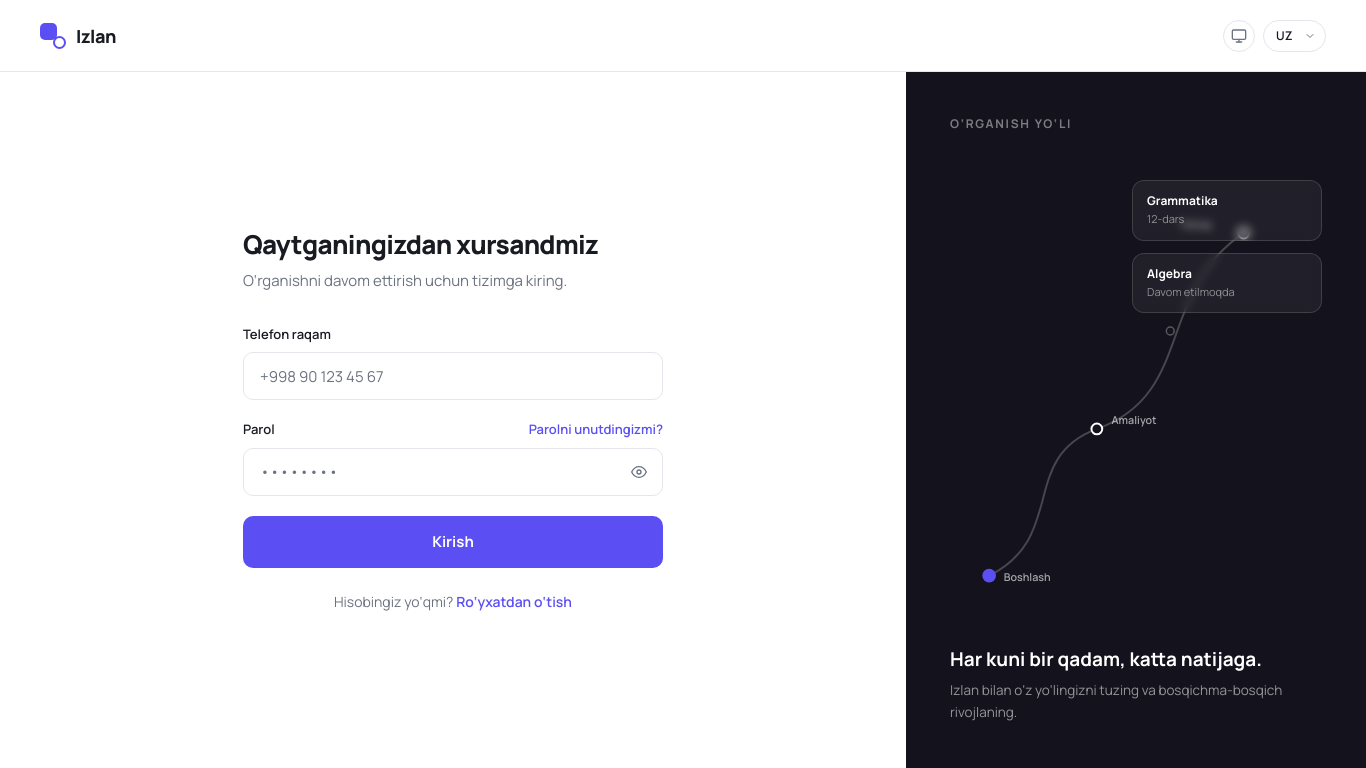
Test: Learner login (WEB-AUTH) › WEB-AUTH-01 invalid credentials shows a friendly localized message
Type "+998900000003" into the field labelled "Telefon raqam".
click(453, 376); type("+998900000003")  # box [243,352,663,400]
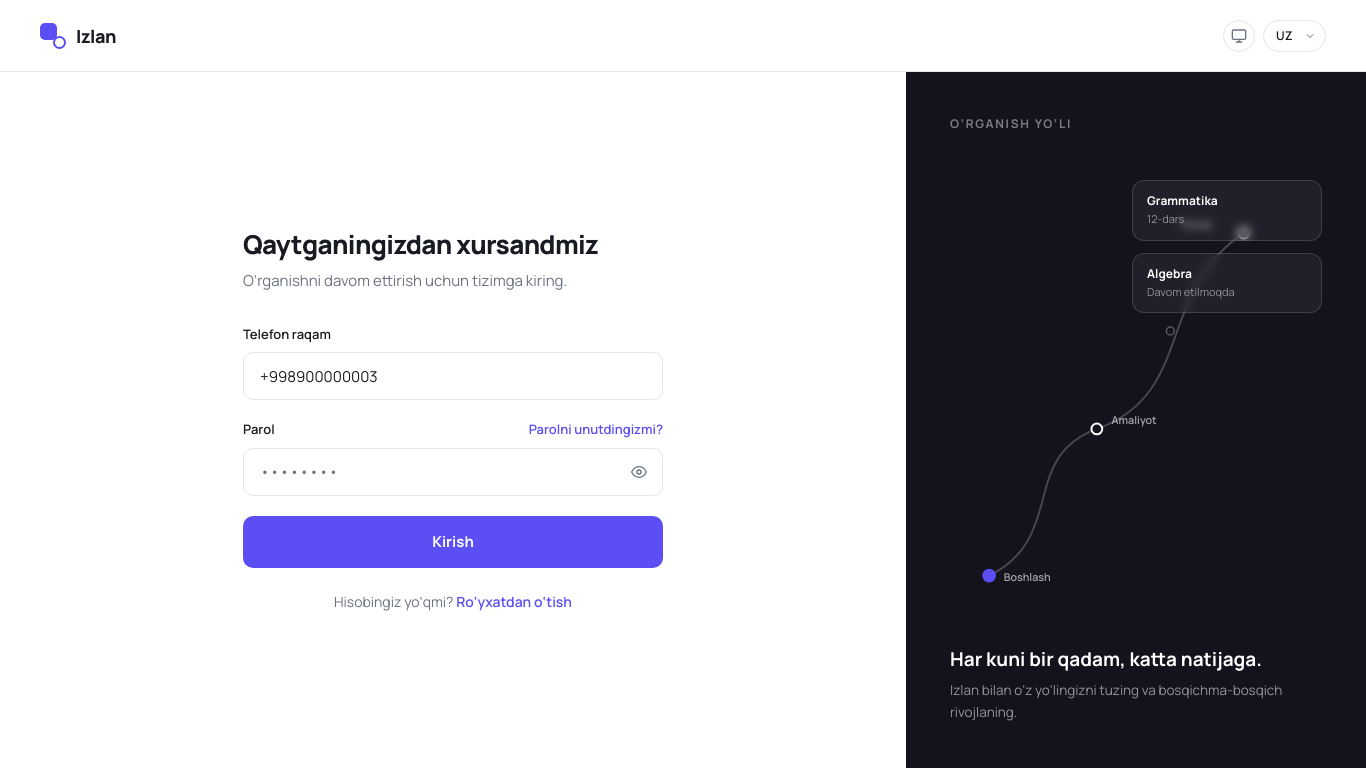
Type "Passw0rd!123" into the password field labelled "Parol".
click(453, 472); type("Passw0rd!123")  # box [243,448,663,496]
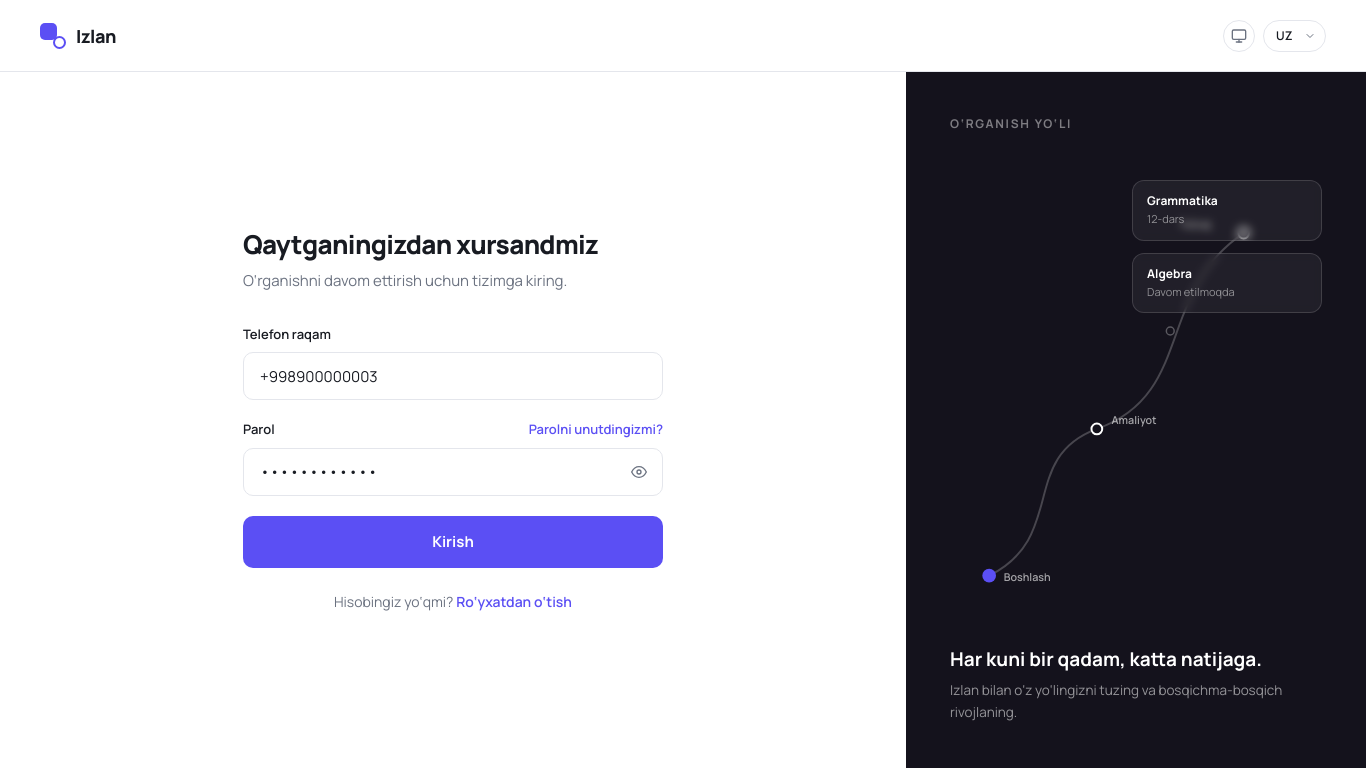
Click the button "Kirish".
click(453, 542)  # box [243,516,663,568]
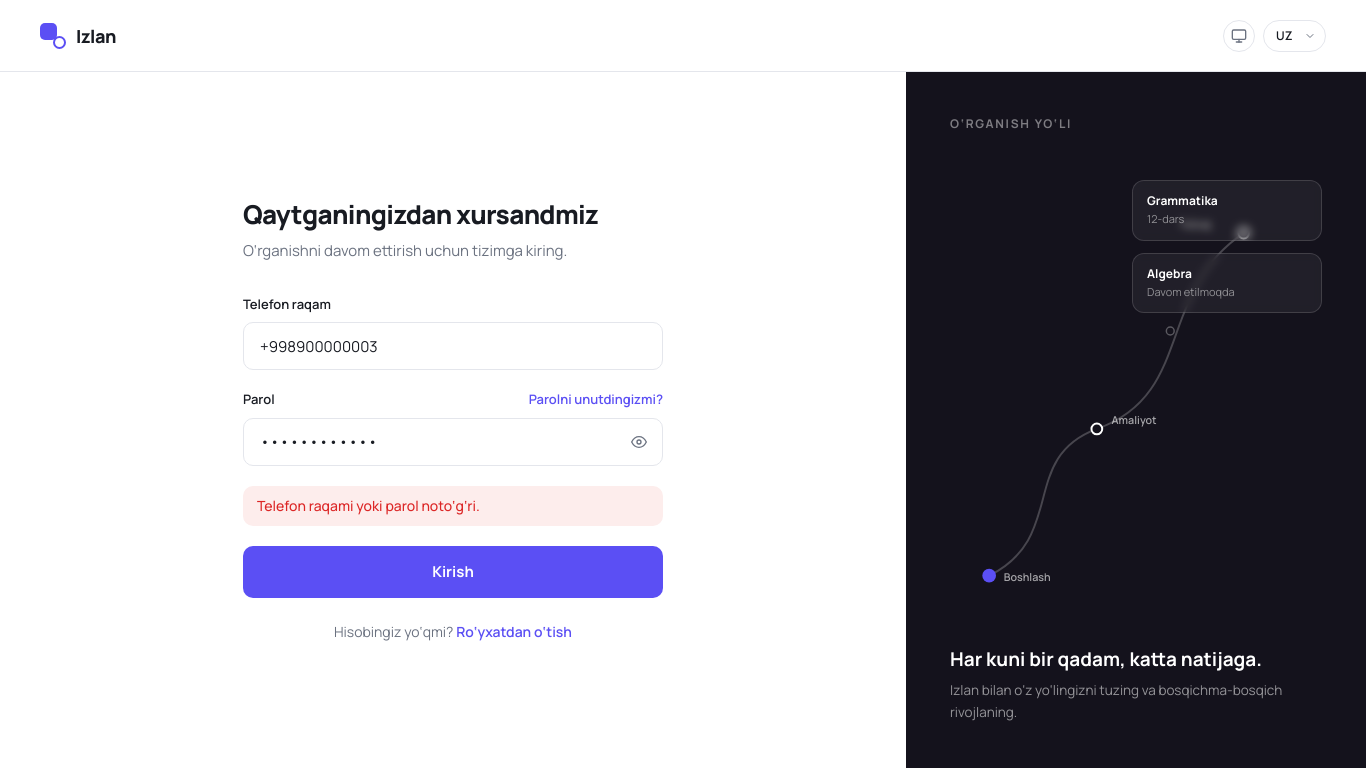
Now the message reads "Telefon raqami yoki parol noto‘g‘ri.", box [257,496,480,515]
